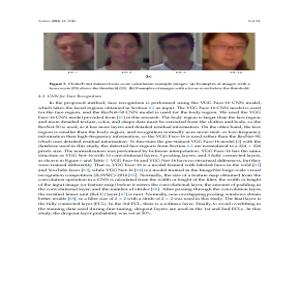image: (43, 32, 254, 70)
text: (36, 80, 262, 214)
